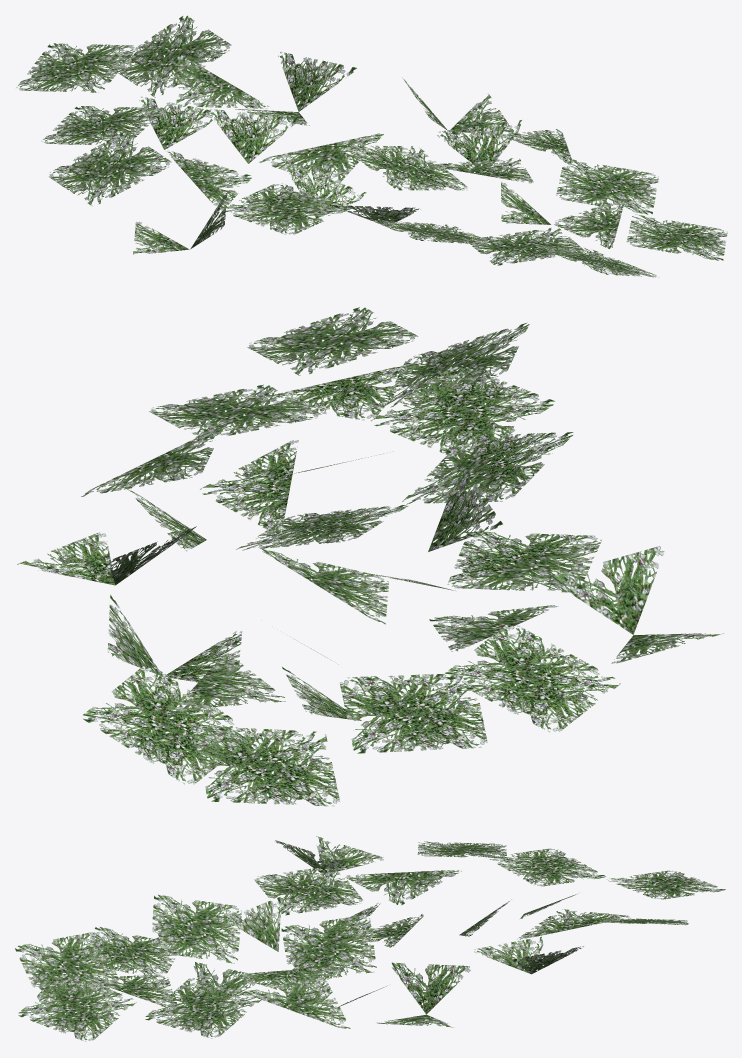
The model's file is ptch_groundflowers_lg_l2.fbx.
3 renders of one model, top to bottom at view 1: azimuth 30°, elevation 25°; view 2: azimuth 150°, elevation 25°; view 3: azimuth 270°, elevation 25°, orthographic. The views are drawn at different scales.
Visible parts, largest first — view 1: mesh_node; view 2: mesh_node; view 3: mesh_node.
Part boxes in pixels (x1,y1,x2,y2): mesh_node: (16,15,727,277); mesh_node: (17,307,723,806); mesh_node: (15,836,725,1041).
Bounding box in the file's own units: 1.99 × 0.1863 × 2.87.
1 material, 1 textured.
